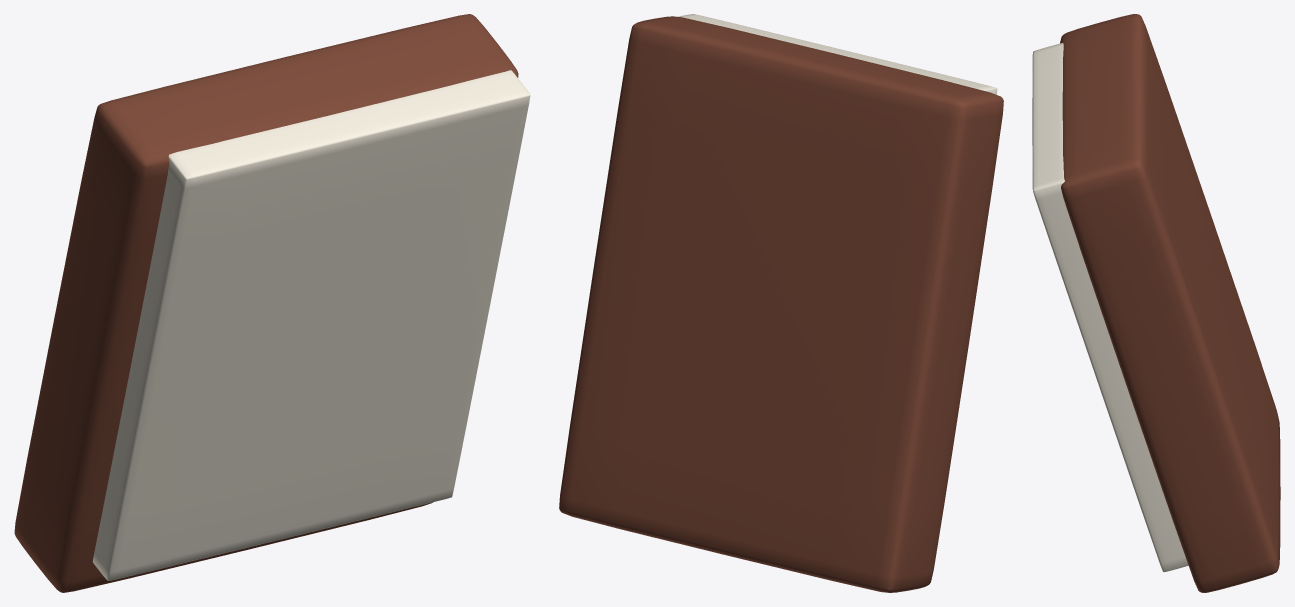
The model's file is tool_notebook.glb.
The picture shows the model from 3 angles, left to right: view 1: azimuth 30°, elevation 25°; view 2: azimuth 150°, elevation 25°; view 3: azimuth 270°, elevation 25°; orthographic projection. The views are drawn at different scales.
Parts seen in each view (by area): view 1: pages, cover; view 2: cover, pages; view 3: cover, pages.
Part boxes in pixels (x1,y1,x2,y2): pages: [92, 70, 530, 580]; cover: [14, 14, 518, 592]; cover: [559, 16, 1003, 592]; pages: [678, 14, 997, 94]; cover: [1060, 14, 1280, 592]; pages: [1032, 43, 1188, 572].
Size of the model in its own units: 0.1998 by 0.2583 by 0.1342.
